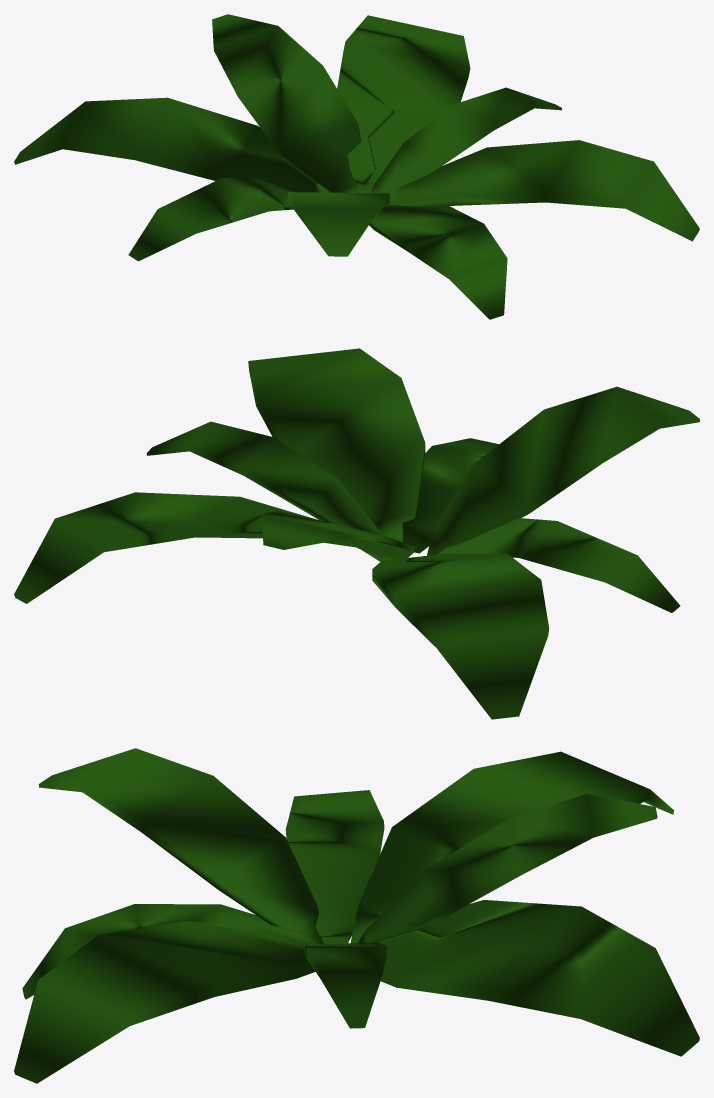
File: Plant_3.obj
3 renders of one model, top to bottom at view 1: azimuth 30°, elevation 25°; view 2: azimuth 150°, elevation 25°; view 3: azimuth 270°, elevation 25°, orthographic. The views are drawn at different scales.
Parts seen in each view (by area): view 1: Plant_3; view 2: Plant_3; view 3: Plant_3.
Boxes of the visible parts, x1,y1,x2,y2 form: Plant_3: (14,14,699,319); Plant_3: (14,348,699,719); Plant_3: (14,748,699,1083).
Bounding box in the file's own units: 139 × 37.72 × 142.
